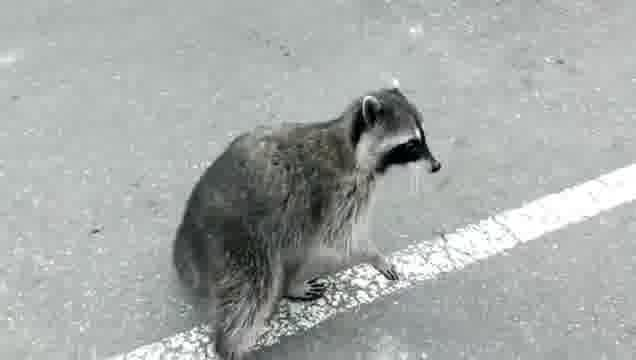raccoon: (170, 74, 448, 360)
